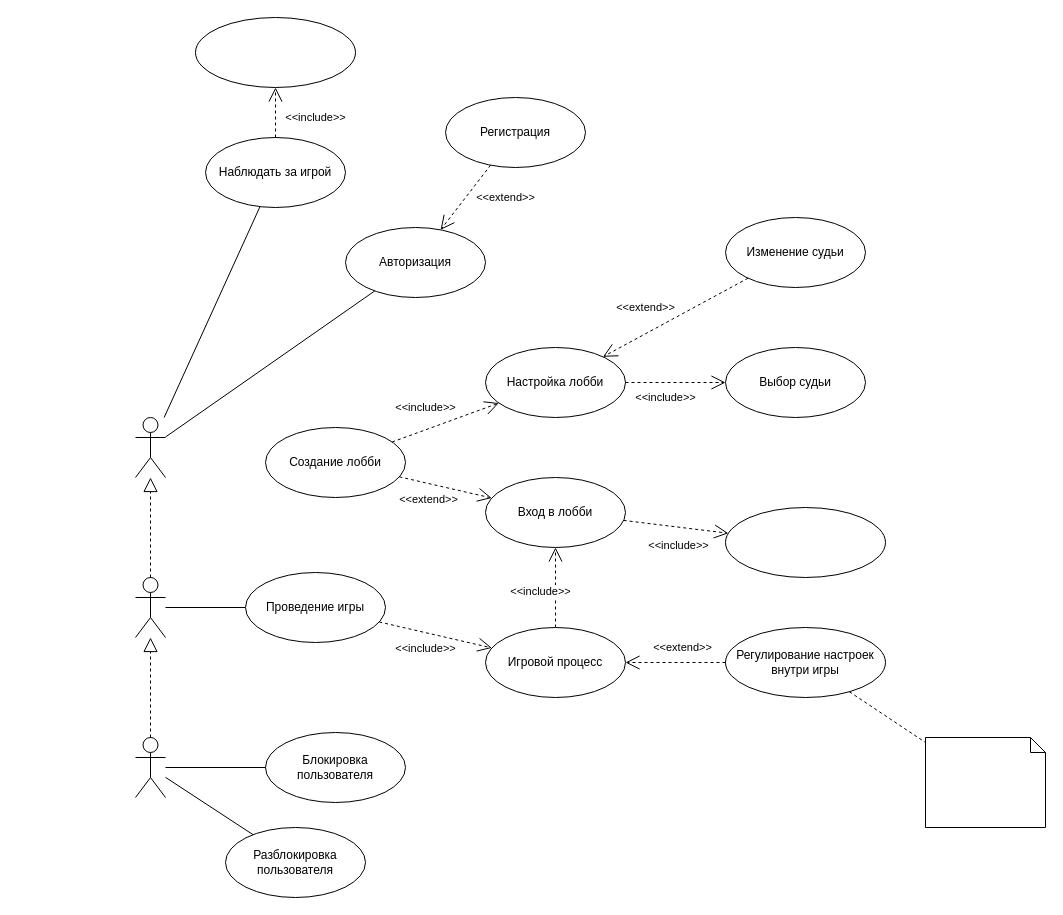
This 1063x915 diagram has some shape labels left out. Each missing label, with the box of its shape:
Авторизованный пользователь: (134, 576, 166, 638)
Модератор: (134, 736, 166, 798)
Например, пользователь может настроить громкость других игроков: (924, 736, 1046, 828)
Неавторизованный пользователь: (134, 416, 166, 478)
Просмотр списка начавшихся игр (стартовавших лобби): (194, 16, 356, 88)
Просмотр списка не начавшихся игр (несформировавшихся лобби): (724, 506, 886, 578)
